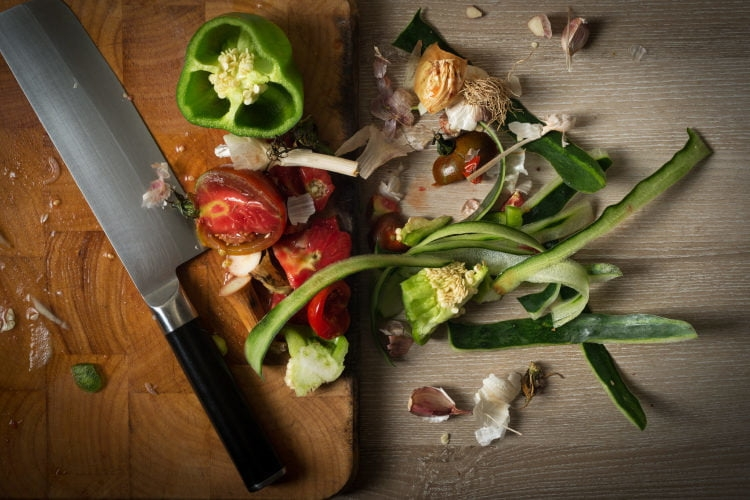kitchen_waste: (486, 124, 734, 290), (239, 217, 477, 380), (174, 14, 324, 143), (170, 9, 310, 140), (436, 301, 712, 367), (146, 158, 297, 262), (210, 120, 371, 188), (174, 167, 297, 253), (462, 354, 556, 453), (392, 256, 495, 338), (212, 272, 301, 366), (521, 7, 621, 74), (399, 40, 473, 118), (424, 125, 502, 192), (394, 373, 472, 436)
metal: (1, 1, 288, 486)
